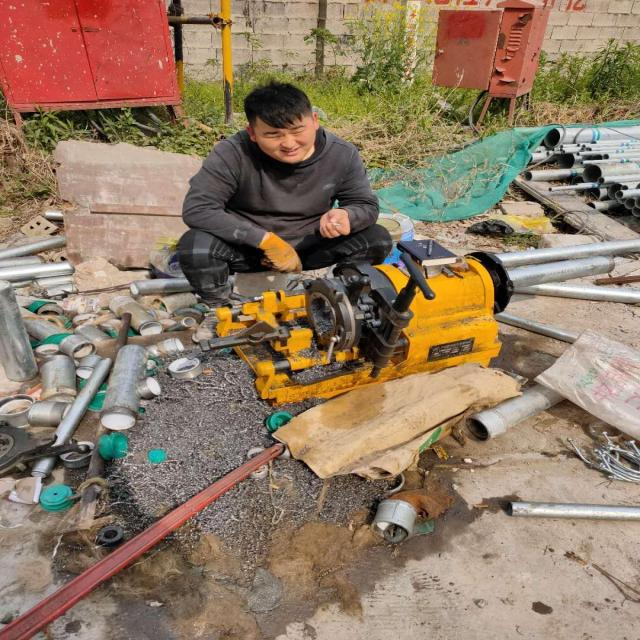Сигарета: (328, 222, 342, 226)
Тело: (179, 82, 392, 299)
